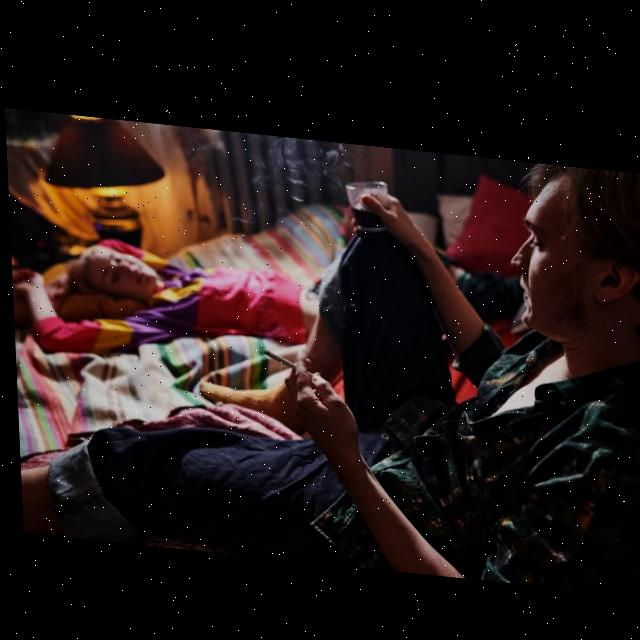cigarette: (259, 343, 310, 371)
